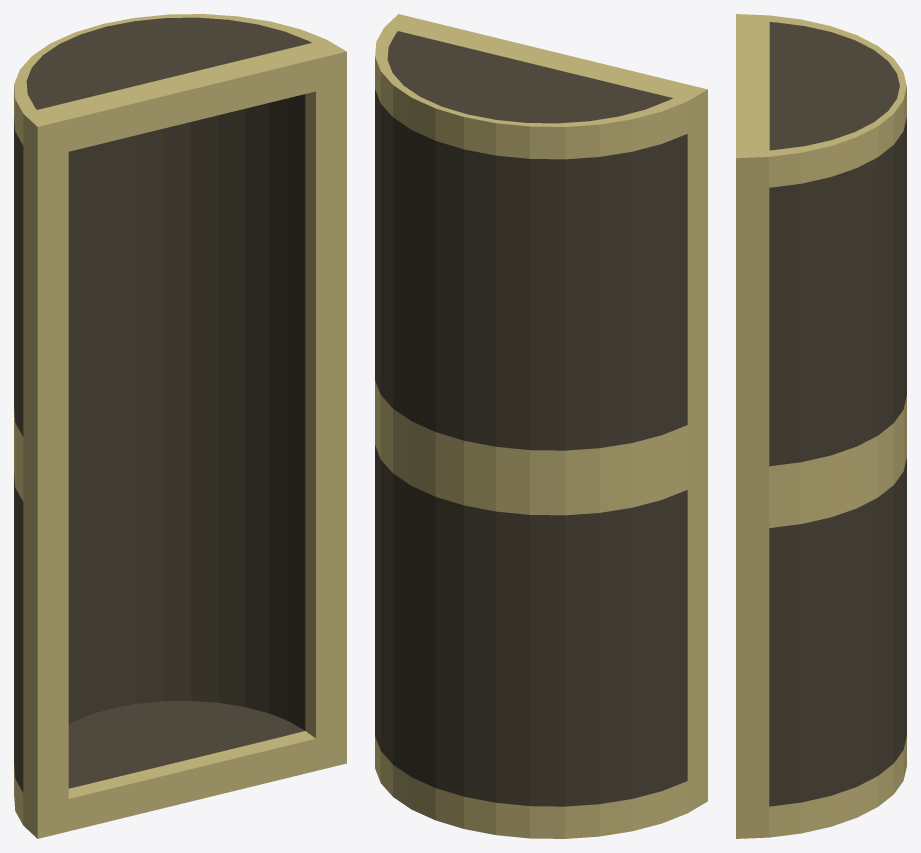
Rendered from ChestLid.fbx.
3 renders of one model, left to right at view 1: azimuth 30°, elevation 25°; view 2: azimuth 150°, elevation 25°; view 3: azimuth 270°, elevation 25°, orthographic. The views are drawn at different scales.
Visible parts, largest first — view 1: Lid; view 2: Lid; view 3: Lid.
Boxes of the visible parts, bbox=[...] form: Lid: bbox=[14, 14, 346, 838]; Lid: bbox=[375, 14, 707, 838]; Lid: bbox=[736, 14, 906, 838].
Bounding box in the file's own units: 200 × 440 × 100.
